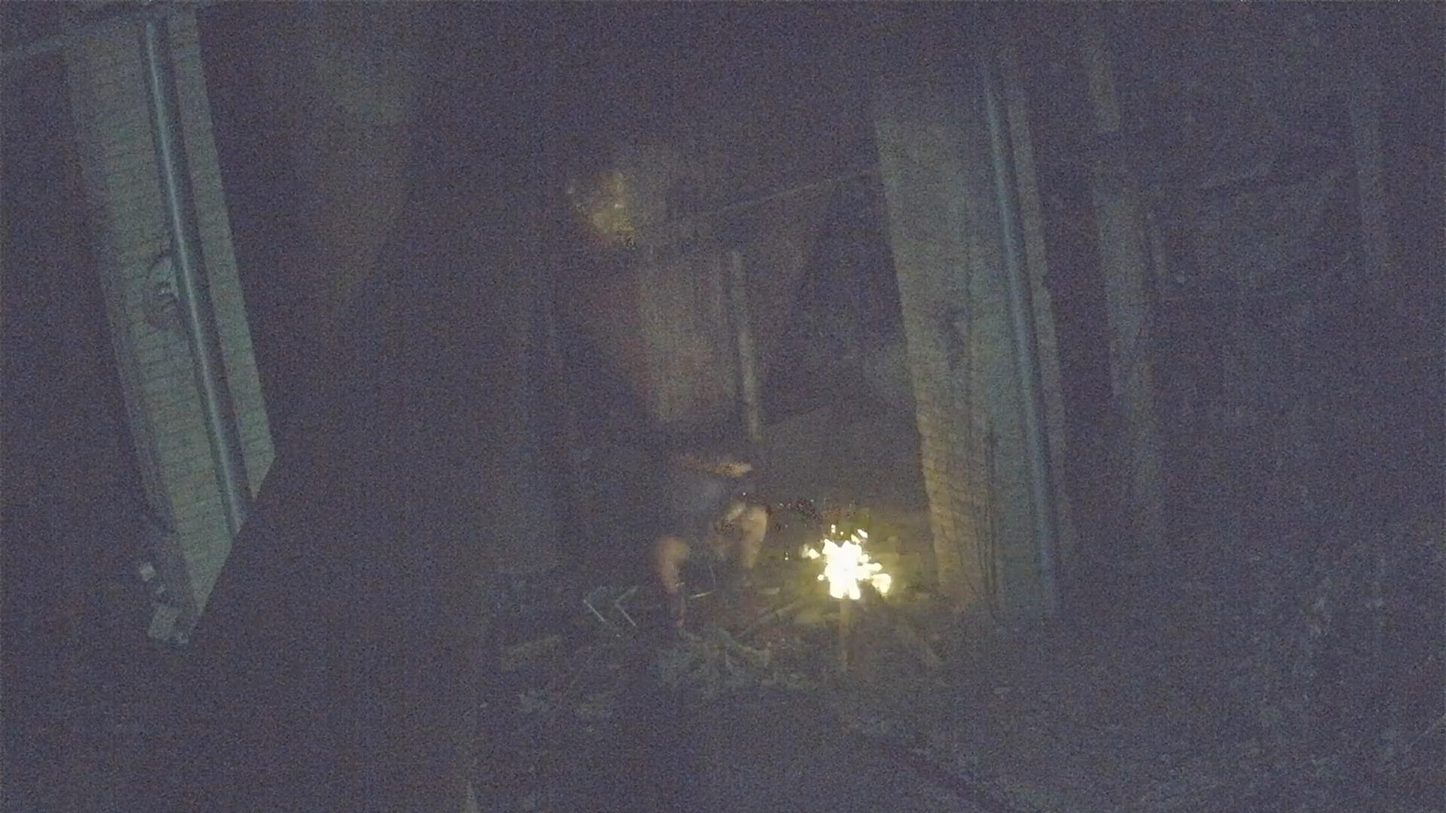fire: (819, 537, 889, 601)
